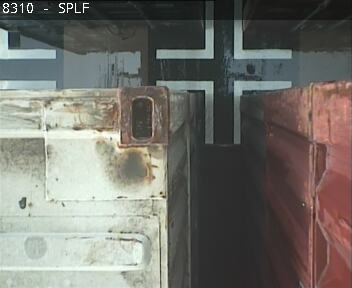groundmarker_1: (157, 80, 292, 144), (156, 1, 291, 59)
